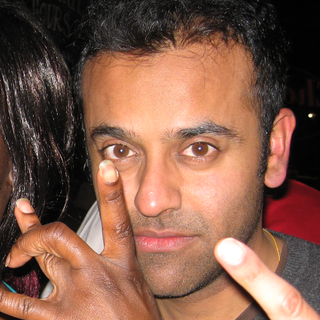eye: (175, 136, 225, 165), (94, 138, 143, 164)
